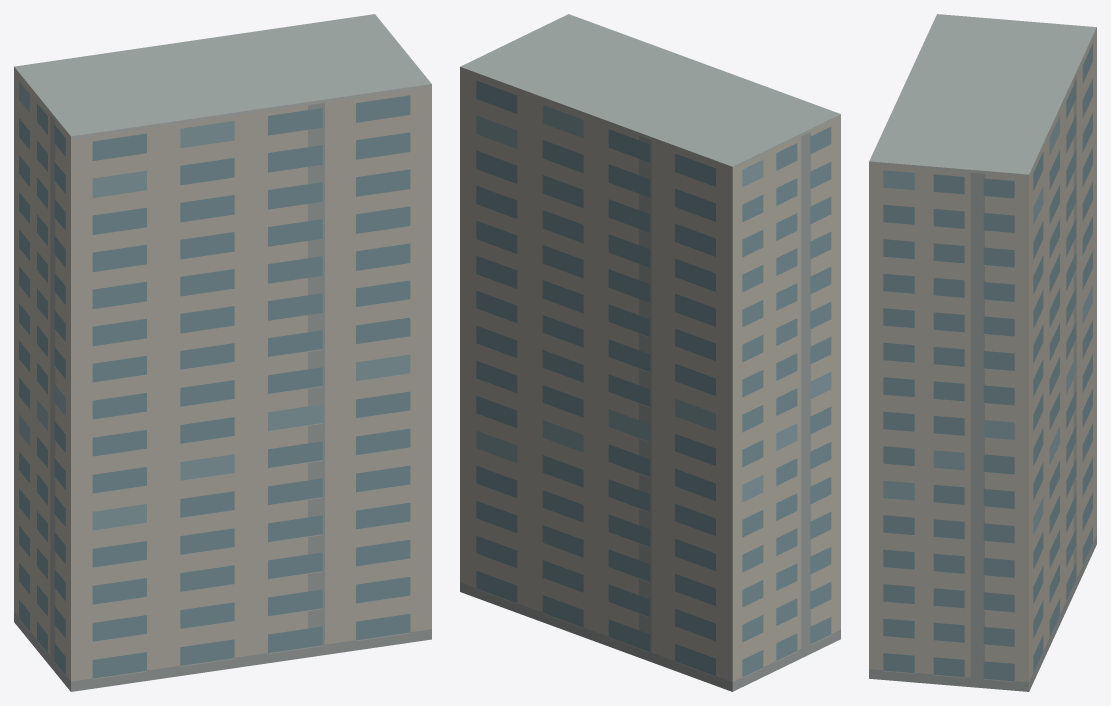
The model's file is residential-94586617-b94e-4356-9ff3-e50ad4a46cf0.glb.
3 renders of one model, left to right at view 1: azimuth 30°, elevation 25°; view 2: azimuth 150°, elevation 25°; view 3: azimuth 270°, elevation 25°, orthographic. The views are drawn at different scales.
Visible parts, largest first — view 1: residential-94586617-b94e-4356-9ff3-e50ad4a46cf0.tmp; view 2: residential-94586617-b94e-4356-9ff3-e50ad4a46cf0.tmp; view 3: residential-94586617-b94e-4356-9ff3-e50ad4a46cf0.tmp.
Part boxes in pixels (x1,y1,x2,y2): residential-94586617-b94e-4356-9ff3-e50ad4a46cf0.tmp: [14, 14, 431, 691]; residential-94586617-b94e-4356-9ff3-e50ad4a46cf0.tmp: [460, 14, 840, 691]; residential-94586617-b94e-4356-9ff3-e50ad4a46cf0.tmp: [869, 14, 1096, 691].
Size of the model in its own units: 27.31 by 41 by 16.36.
